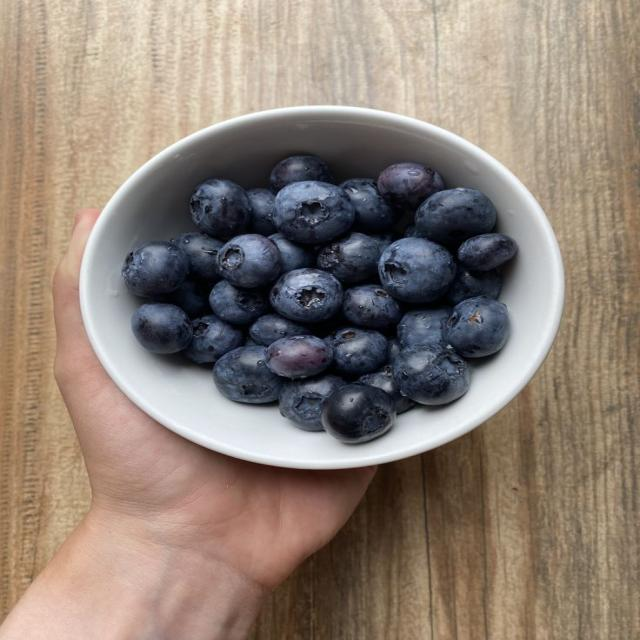blueberry: (274, 181, 354, 244), (379, 238, 455, 302), (392, 344, 469, 405), (415, 188, 496, 244), (322, 384, 396, 442), (214, 346, 284, 403), (443, 297, 509, 357), (270, 269, 342, 322), (280, 375, 346, 431), (122, 241, 188, 296), (190, 179, 251, 238), (217, 234, 281, 288), (131, 303, 193, 354), (317, 233, 380, 283), (377, 163, 444, 209), (340, 179, 398, 232), (327, 327, 388, 375), (184, 315, 244, 363), (267, 336, 333, 378), (171, 233, 223, 285), (358, 366, 415, 413), (209, 280, 268, 324), (342, 285, 401, 328), (270, 156, 333, 193), (397, 306, 451, 347), (445, 265, 500, 305), (458, 233, 517, 270), (154, 280, 210, 318), (249, 314, 311, 346), (269, 233, 315, 273), (247, 188, 276, 236), (369, 233, 393, 253), (387, 338, 402, 364), (405, 224, 421, 237), (243, 337, 257, 346)
